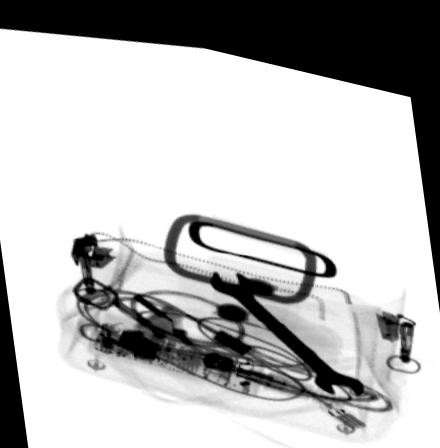Wrench: (208, 259, 368, 381)
